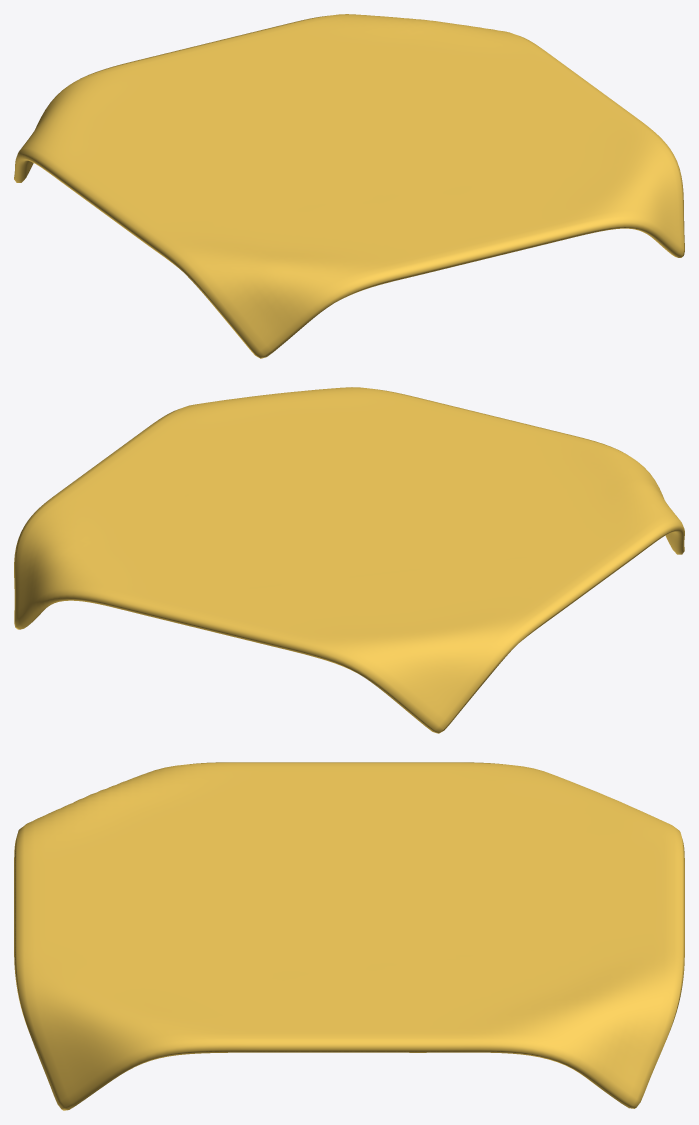
File: cheese.glb
3 renders of one model, top to bottom at view 1: azimuth 30°, elevation 25°; view 2: azimuth 150°, elevation 25°; view 3: azimuth 270°, elevation 25°, orthographic. The views are drawn at different scales.
Visible parts, largest first — view 1: cheese; view 2: cheese; view 3: cheese.
Part boxes in pixels (bbox=[...]): cheese: bbox=[14, 14, 684, 358]; cheese: bbox=[14, 387, 684, 733]; cheese: bbox=[14, 762, 684, 1110].
Bounding box in the file's own units: 0.9574 × 0.144 × 0.9574.
